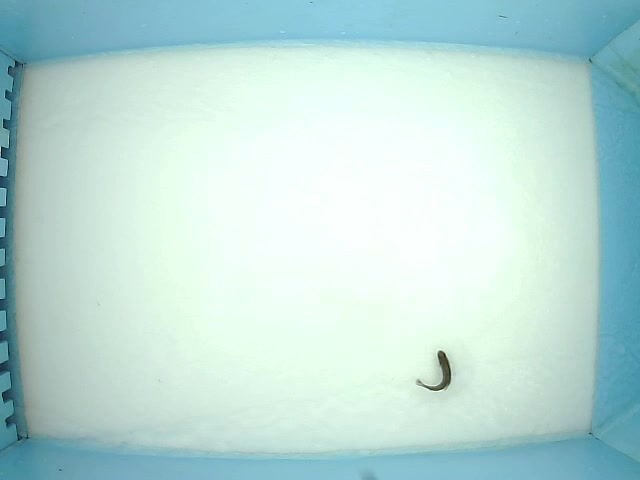fish: (414, 349, 453, 393)
